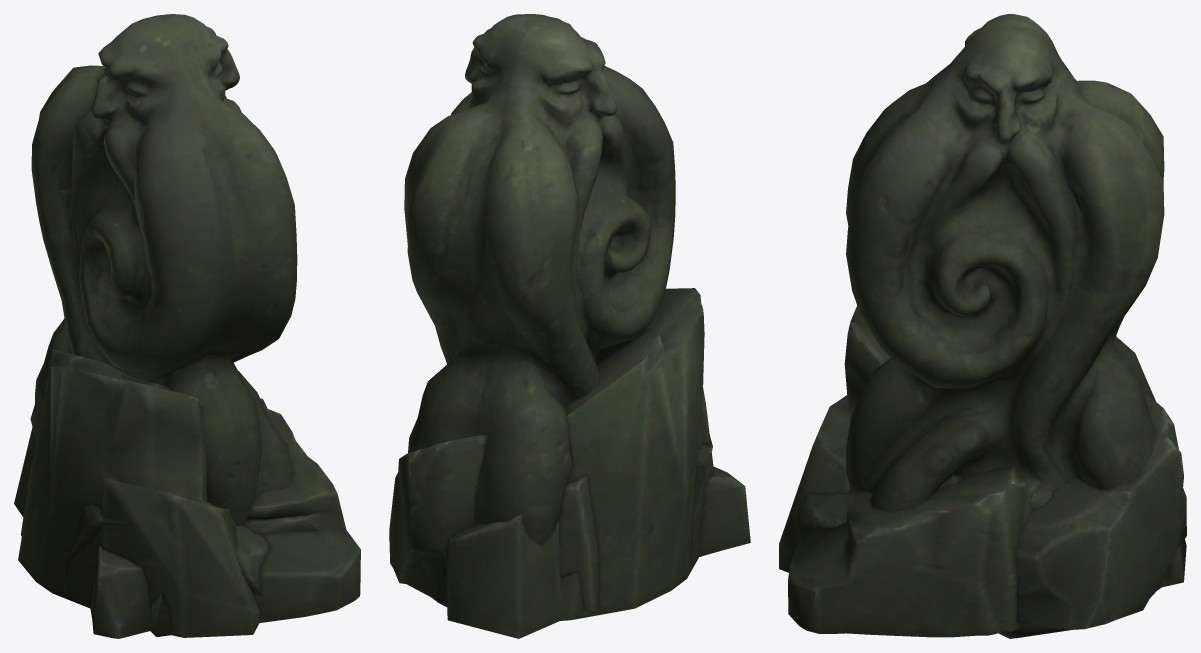
The model's file is statue_mystical001.fbx.
3 views of the same model, side by side, from view 1: azimuth 30°, elevation 25°; view 2: azimuth 150°, elevation 25°; view 3: azimuth 270°, elevation 25° (orthographic). The views are drawn at different scales.
Parts seen in each view (by area): view 1: statue_mystical001; view 2: statue_mystical001; view 3: statue_mystical001.
Boxes of the visible parts, x1,y1,x2,y2 form: statue_mystical001: [14, 14, 360, 638]; statue_mystical001: [389, 14, 750, 638]; statue_mystical001: [779, 14, 1186, 638].
Size of the model in its own units: 13112 by 27793 by 17529.
